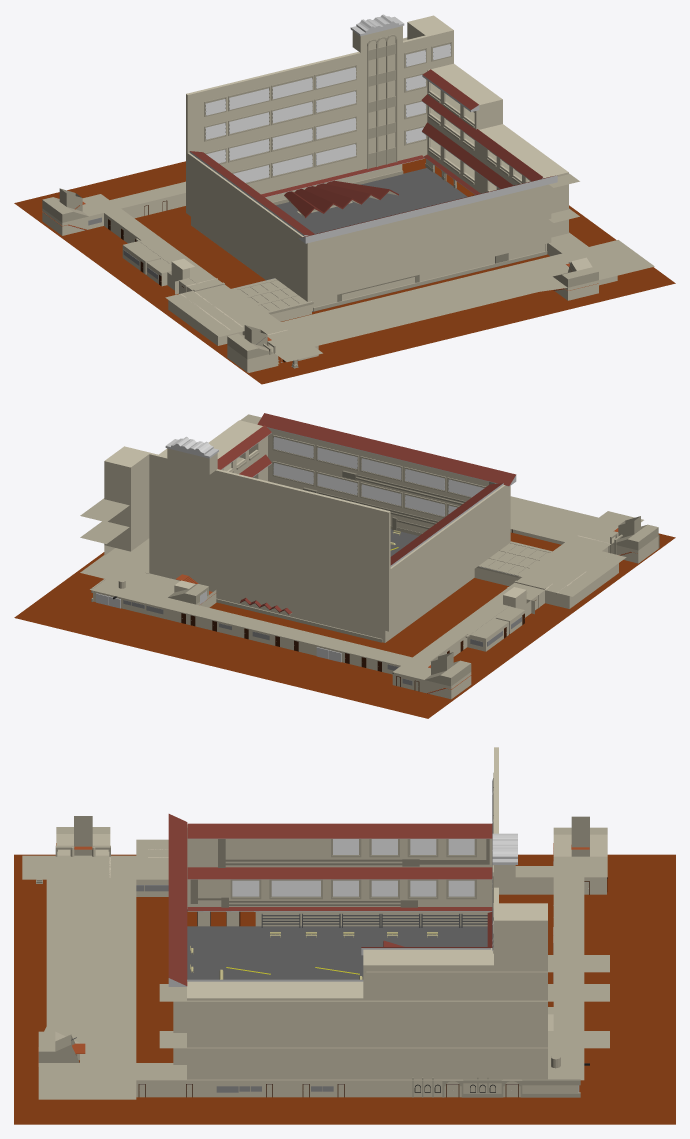
The model's file is Ground flr (updated).fbx.
3 views of the same model, one above another, from view 1: azimuth 30°, elevation 25°; view 2: azimuth 150°, elevation 25°; view 3: azimuth 270°, elevation 25° (orthographic). The views are drawn at different scales.
Parts seen in each view (by area): view 1: Ground flr; view 2: Ground flr; view 3: Ground flr.
Boxes of the visible parts, x1,y1,x2,y2 form: Ground flr: (14, 14, 675, 384); Ground flr: (14, 413, 675, 718); Ground flr: (14, 747, 675, 1124).
Bounding box in the file's own units: 165 × 59.91 × 171.
